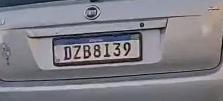Placa_mercosul_carro: (52, 33, 143, 66)
